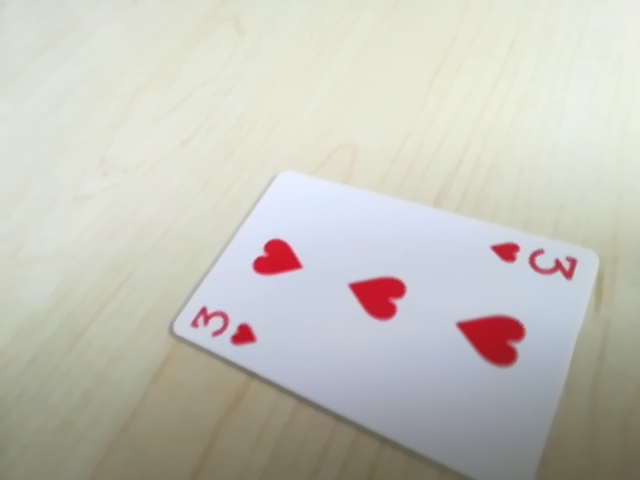hx 3: (483, 238, 586, 285), (182, 299, 260, 355)
